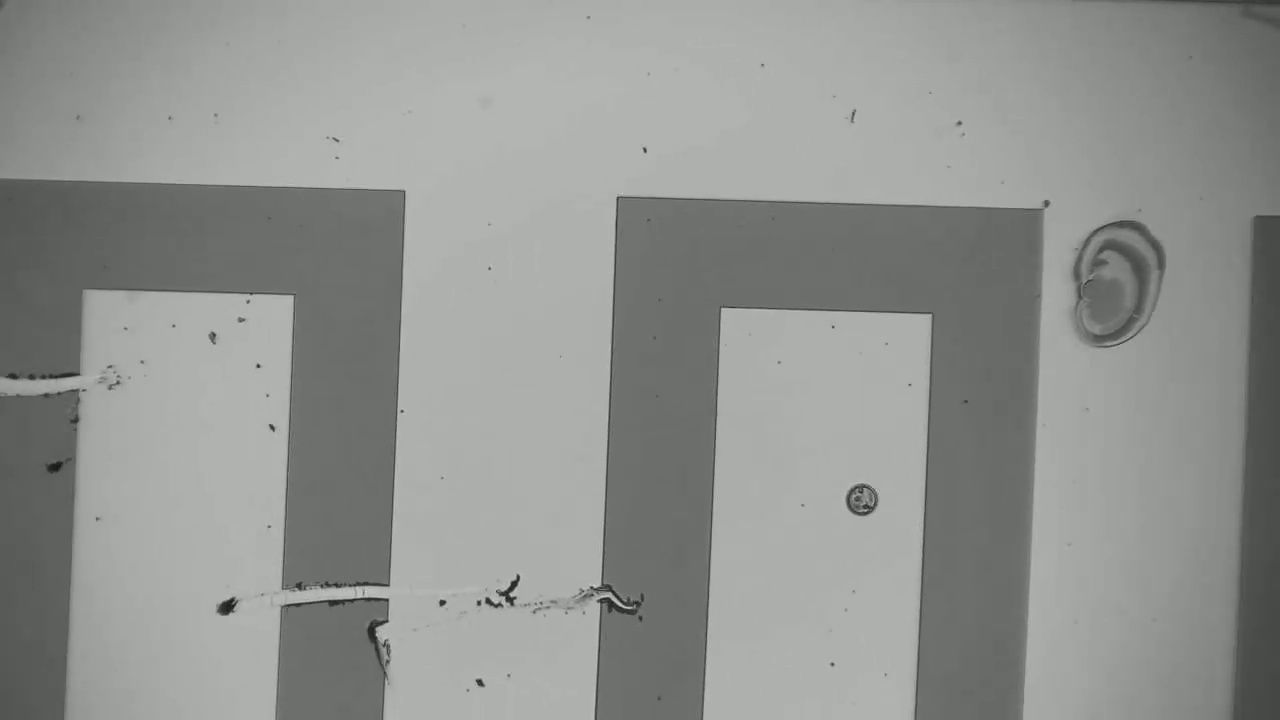Short_circuit: (261, 566, 413, 624), (0, 349, 108, 412)
